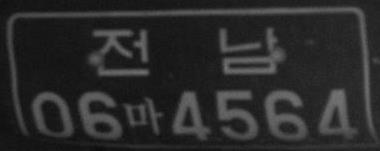0: (30, 90, 74, 139)
4: (316, 87, 360, 141), (171, 89, 211, 141)
5: (214, 88, 260, 141)
6: (263, 88, 309, 142), (76, 90, 124, 140)
마: (125, 97, 164, 135)
전남_D: (91, 25, 280, 76)
